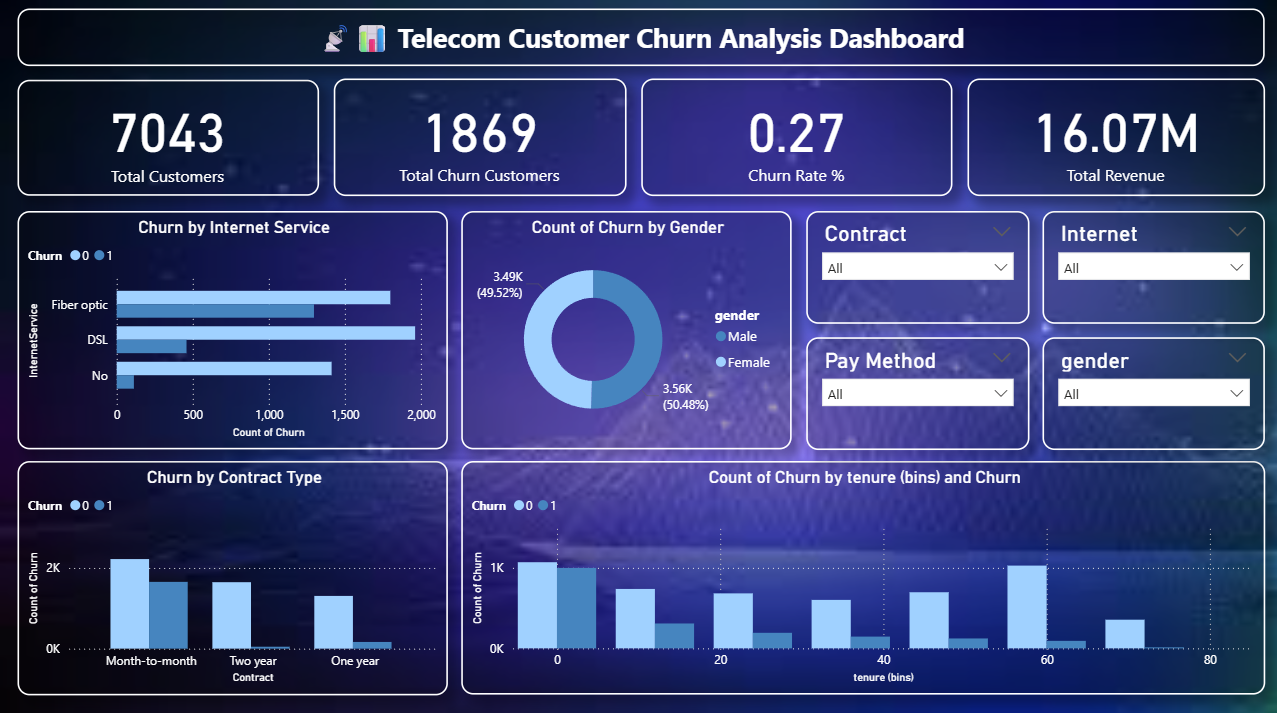

Layout of this report page (visuals, bound fields, positions):
{"tool":"powerbi","page":{"name":"Page 1","canvas":[1280,720],"ordinal":0},"visuals":[{"type":"card","fields":{"Values":["cleaned_telco_churn.Total Customers"]},"box":[17.5,83.8,301.2,116.2],"z":0},{"type":"clusteredColumnChart","title":"Churn by Contract Type","fields":{"Category":["cleaned_telco_churn.Contract"],"Y":["CountNonNull(cleaned_telco_churn.Churn)"],"Series":["cleaned_telco_churn.Churn"]},"box":[16.9,464.5,430.7,234],"z":1000},{"type":"clusteredBarChart","title":"Churn by Internet Service","fields":{"Category":["cleaned_telco_churn.InternetService"],"Y":["CountNonNull(cleaned_telco_churn.Churn)"],"Series":["cleaned_telco_churn.Churn"]},"box":[17.5,215,430,238.8],"z":2000},{"type":"textbox","box":[17.5,12.5,1247.5,57.5],"z":3000},{"type":"donutChart","title":"Count of Churn by Gender","fields":{"Category":["cleaned_telco_churn.gender"],"Y":["CountNonNull(cleaned_telco_churn.Churn)"]},"box":[461.2,215,330,238.8],"z":4000},{"type":"clusteredColumnChart","fields":{"Y":["CountNonNull(cleaned_telco_churn.Churn)"],"Series":["cleaned_telco_churn.Churn"],"Category":["cleaned_telco_churn.tenure (bins)"]},"box":[461.2,465,803.8,233.8],"z":5000},{"type":"slicer","fields":{"Values":["cleaned_telco_churn.Contract"]},"box":[806.2,215,223,113],"z":6000},{"type":"slicer","fields":{"Values":["cleaned_telco_churn.InternetService"]},"box":[1042.5,215,222.5,112.5],"z":7000},{"type":"slicer","fields":{"Values":["cleaned_telco_churn.PaymentMethod"]},"box":[806.2,341.2,223,113],"z":8000},{"type":"slicer","fields":{"Values":["cleaned_telco_churn.gender"]},"box":[1042.5,341.2,222.5,112.5],"z":9000},{"type":"card","fields":{"Values":["cleaned_telco_churn.Total Churn Customers"]},"box":[333.8,82.5,292.5,117.5],"z":10000},{"type":"card","fields":{"Values":["cleaned_telco_churn.Churn Rate %"]},"box":[641.2,82.5,311.2,117.5],"z":11000},{"type":"card","fields":{"Values":["cleaned_telco_churn.Total Revenue"]},"box":[967.5,82.5,297.5,117.5],"z":12000}]}

Visuals, with their boxes in screenshot pixels (x1, y1, x2, y2), scaled from the page's 1280x720 canvas onto the 1277x713 screenshot:
card - cleaned_telco_churn.Total Customers: BBox(17, 83, 318, 198)
"Churn by Contract Type" clusteredColumnChart: BBox(17, 460, 447, 692)
"Churn by Internet Service" clusteredBarChart: BBox(17, 213, 446, 449)
textbox: BBox(17, 12, 1262, 69)
"Count of Churn by Gender" donutChart: BBox(460, 213, 789, 449)
clusteredColumnChart - CountNonNull(cleaned_telco_churn.Churn) x cleaned_telco_churn.Churn: BBox(460, 460, 1262, 692)
slicer - cleaned_telco_churn.Contract: BBox(804, 213, 1027, 325)
slicer - cleaned_telco_churn.InternetService: BBox(1040, 213, 1262, 324)
slicer - cleaned_telco_churn.PaymentMethod: BBox(804, 338, 1027, 450)
slicer - cleaned_telco_churn.gender: BBox(1040, 338, 1262, 449)
card - cleaned_telco_churn.Total Churn Customers: BBox(333, 82, 625, 198)
card - cleaned_telco_churn.Churn Rate %: BBox(640, 82, 950, 198)
card - cleaned_telco_churn.Total Revenue: BBox(965, 82, 1262, 198)
